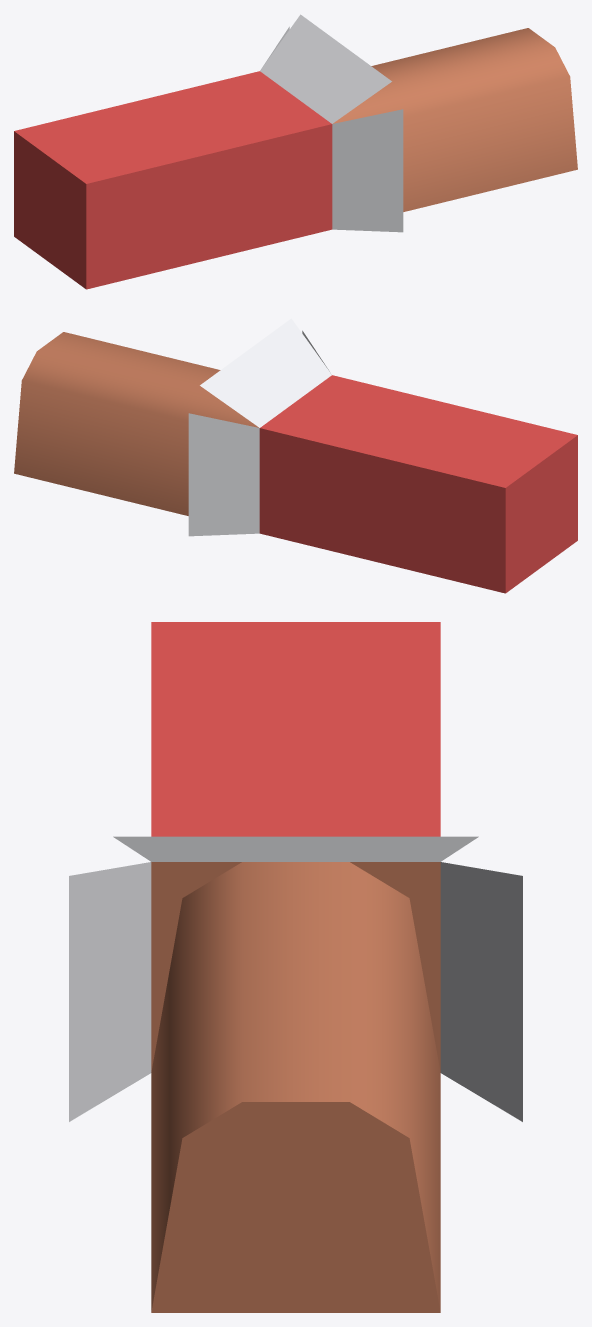
The model's file is candyBarWrapper.obj.
3 views of the same model, one above another, from view 1: azimuth 30°, elevation 25°; view 2: azimuth 150°, elevation 25°; view 3: azimuth 270°, elevation 25° (orthographic). The views are drawn at different scales.
Visible parts, largest first — view 1: candyBarWrapper; view 2: candyBarWrapper; view 3: candyBarWrapper.
Boxes of the visible parts, box(x1,y1,x2,y2) form: candyBarWrapper: box(14, 14, 577, 289); candyBarWrapper: box(14, 318, 577, 593); candyBarWrapper: box(69, 622, 522, 1312).
Bounding box in the file's own units: 0.2924 × 0.0812 × 0.1169.
